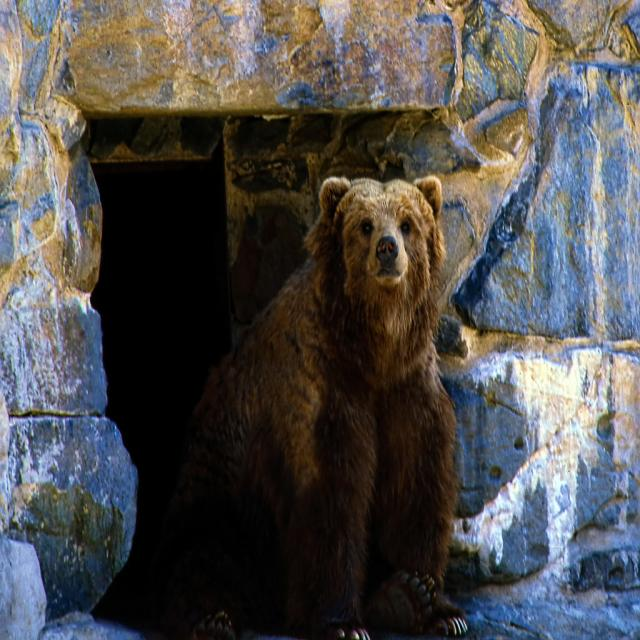Cheetahs: (182, 175, 469, 640)
